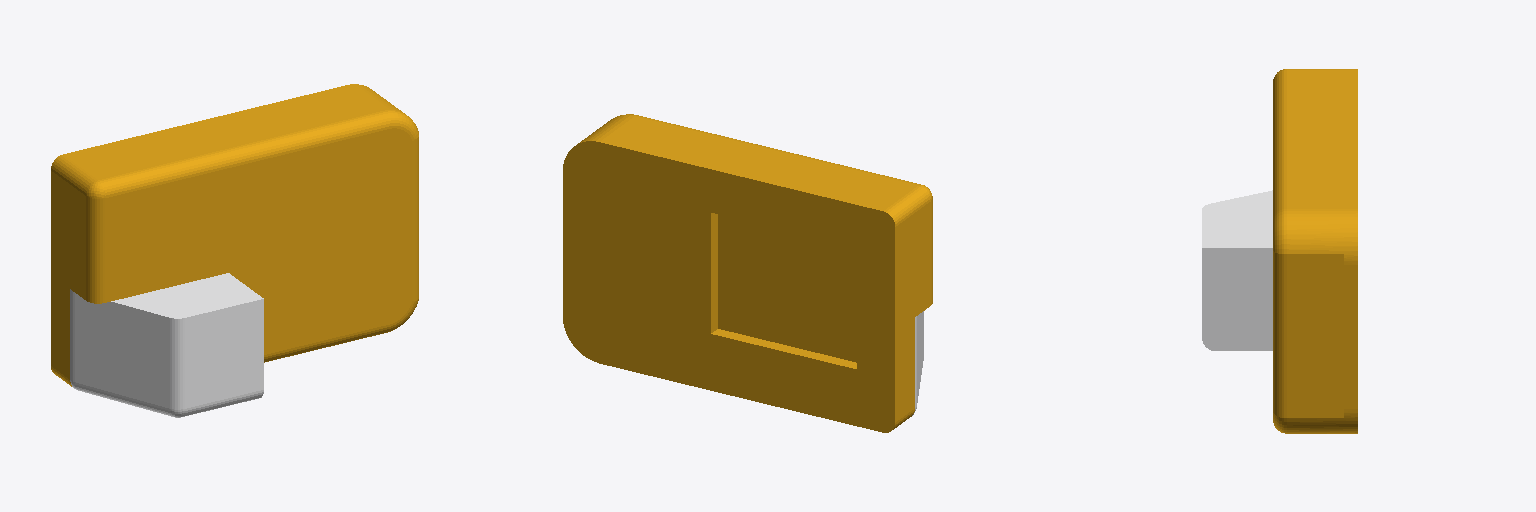
File: MainBody.obj
3 renders of one model, left to right at view 1: azimuth 30°, elevation 25°; view 2: azimuth 150°, elevation 25°; view 3: azimuth 270°, elevation 25°, orthographic.
Parts seen in each view (by area): view 1: Body131; view 2: Body131; view 3: Body131.
Boxes of the visible parts, x1=… form: Body131: x1=51, y1=84, x2=418, y2=417; Body131: x1=563, y1=114, x2=932, y2=432; Body131: x1=1202, y1=69, x2=1357, y2=433.
Size of the model in its own units: 136 by 86.41 by 55.